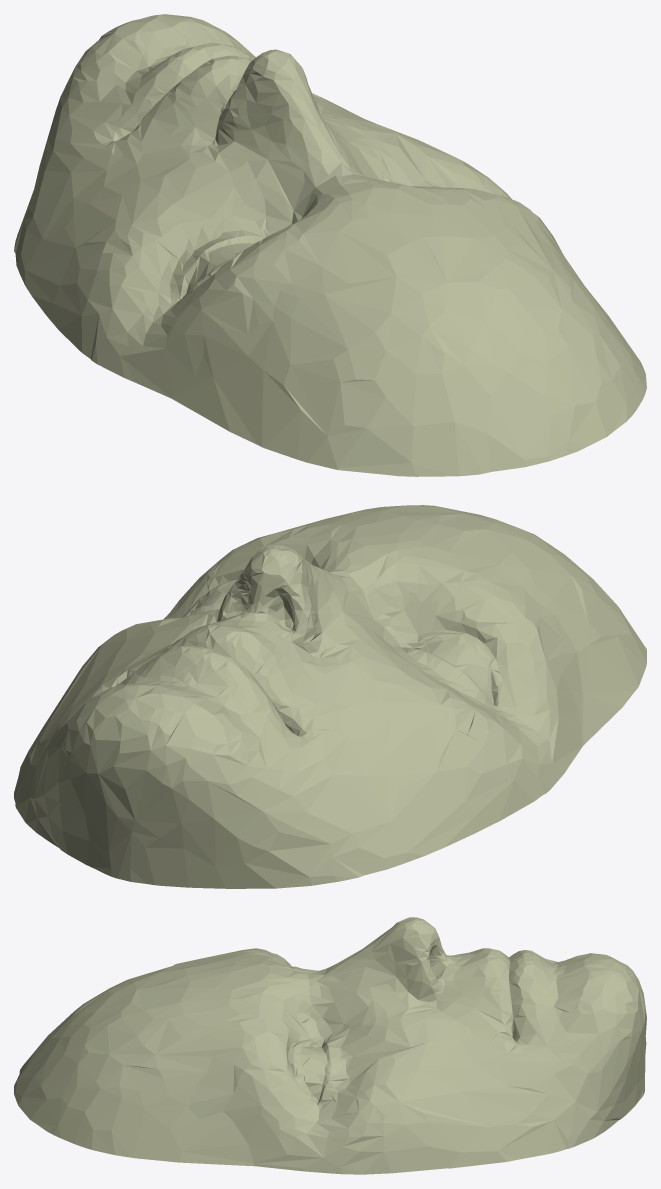
Rendered from Head.obj.
3 renders of one model, top to bottom at view 1: azimuth 30°, elevation 25°; view 2: azimuth 150°, elevation 25°; view 3: azimuth 270°, elevation 25°, orthographic. The views are drawn at different scales.
Parts seen in each view (by area): view 1: obj_0; view 2: obj_0; view 3: obj_0.
Part boxes in pixels (bbox=[...]): obj_0: bbox=[14, 14, 646, 476]; obj_0: bbox=[14, 505, 646, 888]; obj_0: bbox=[14, 917, 646, 1174].
Bounding box in the file's own units: 8.99 × 4.19 × 14.13.
